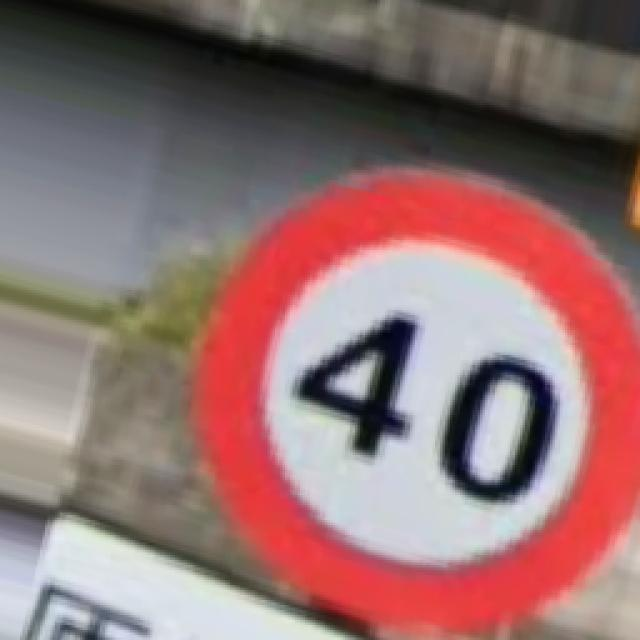Speed Limit -40-: (198, 168, 638, 630)
